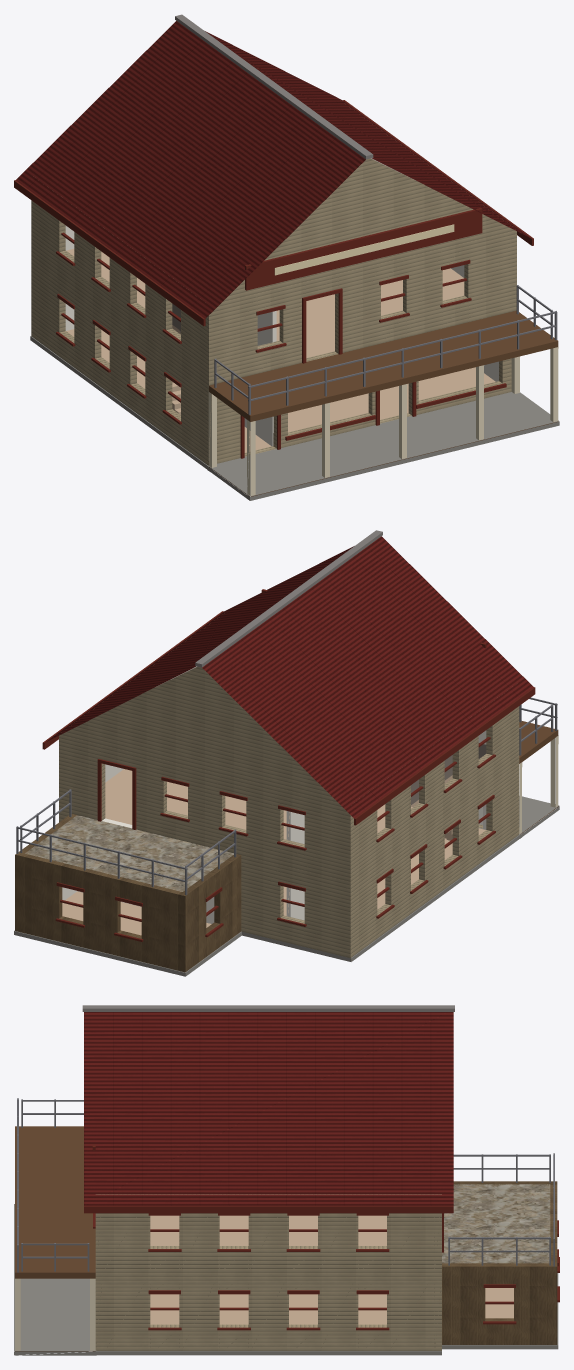
Rendered from rw-mercantile.towns-v2.lod0.glb.
The picture shows the model from 3 angles, top to bottom: view 1: azimuth 30°, elevation 25°; view 2: azimuth 150°, elevation 25°; view 3: azimuth 270°, elevation 25°; orthographic projection. The views are drawn at different scales.
Visible parts, largest first — view 1: rw-mercantile; view 2: rw-mercantile; view 3: rw-mercantile.
Boxes of the visible parts, x1,y1,x2,y2 form: rw-mercantile: [14, 14, 559, 500]; rw-mercantile: [14, 530, 559, 976]; rw-mercantile: [14, 1005, 559, 1355].
Size of the model in its own units: 12.88 by 10.54 by 18.92.
7 materials, 4 textured.
